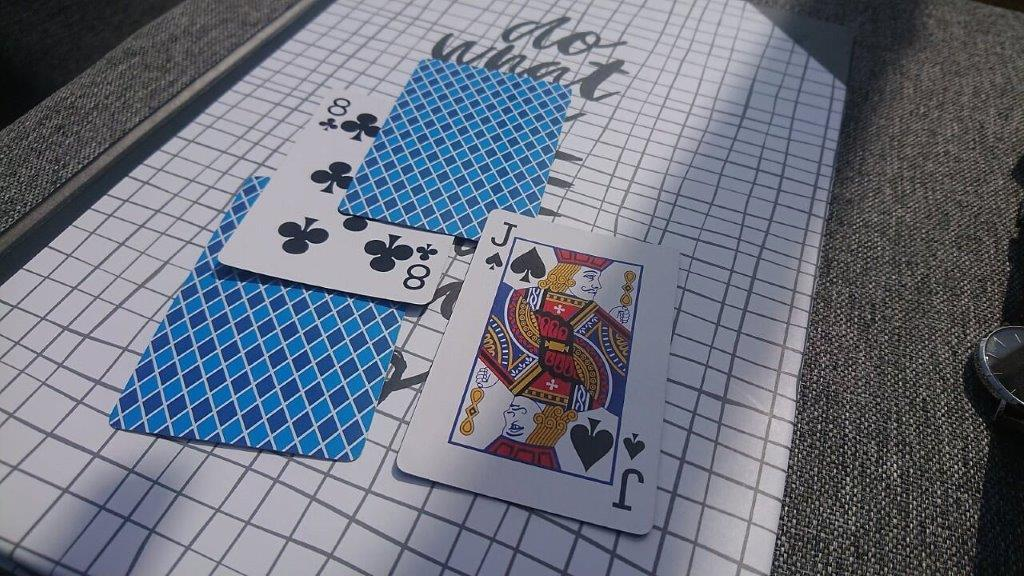8C: (317, 92, 353, 137)
BACK: (108, 308, 407, 464), (338, 57, 575, 210)
JS: (480, 214, 521, 275)
